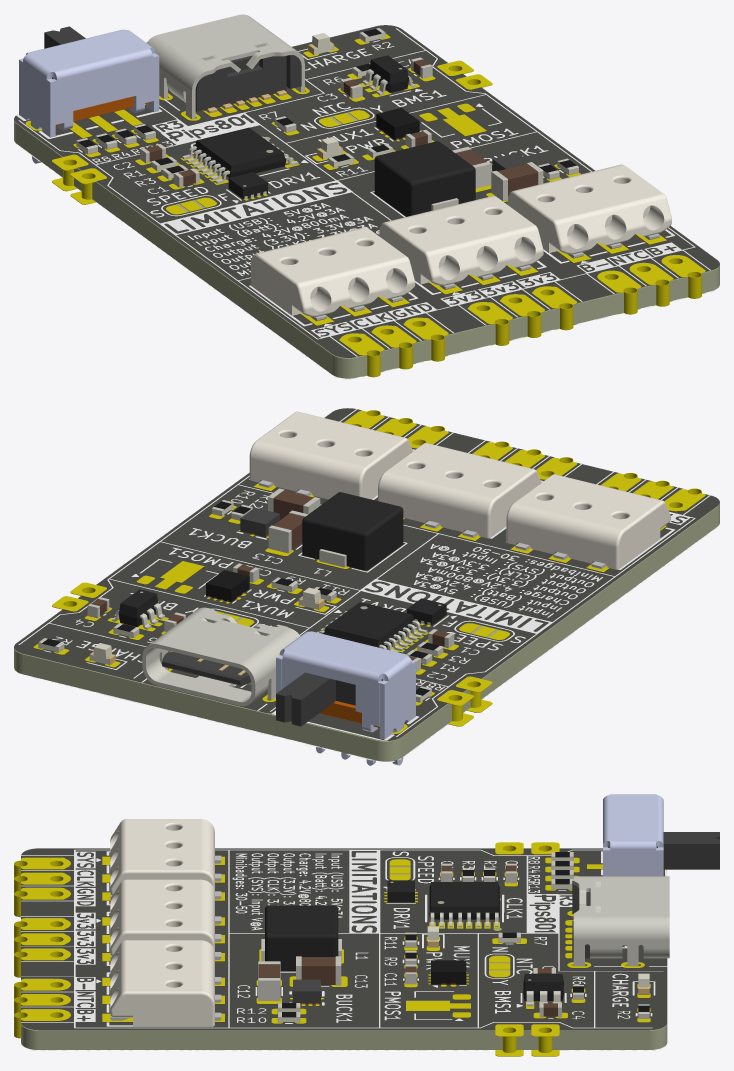
File: minibadge-display-devboard.glb
3 renders of one model, top to bottom at view 1: azimuth 30°, elevation 25°; view 2: azimuth 150°, elevation 25°; view 3: azimuth 270°, elevation 25°, orthographic. The views are drawn at different scales.
Visible parts, largest first — view 1: =>[0:1:1:18], =>[0:1:1:19], =>[0:1:1:16], =>[0:1:1:17], SW1, USB1, JT3, JT2, JT1, L1, CLK1, BMS1 (+4 smaller); view 2: =>[0:1:1:19], =>[0:1:1:18], =>[0:1:1:17], SW1, JT3, =>[0:1:1:16], JT2, USB1, JT1, L1, CLK1, BMS1 (+5 smaller); view 3: =>[0:1:1:18], =>[0:1:1:19], =>[0:1:1:17], =>[0:1:1:16], JT1, USB1, SW1, JT2, JT3, L1, CLK1, C13 (+5 smaller).
Boxes of the visible parts, box(x1,y1,x2,y2) form: =>[0:1:1:18]: box(14, 25, 719, 357); =>[0:1:1:19]: box(14, 26, 719, 378); =>[0:1:1:16]: box(25, 34, 705, 377); =>[0:1:1:17]: box(15, 28, 715, 379); SW1: box(19, 26, 159, 163); USB1: box(146, 14, 304, 119); JT3: box(251, 227, 415, 321); JT2: box(379, 196, 543, 289); JT1: box(507, 164, 671, 258); L1: box(374, 141, 475, 216); CLK1: box(182, 127, 298, 183); BMS1: box(362, 55, 415, 95); =>[0:1:1:19]: box(14, 409, 719, 761); =>[0:1:1:18]: box(14, 408, 719, 740); =>[0:1:1:17]: box(14, 409, 719, 762); SW1: box(276, 631, 415, 765); JT3: box(506, 474, 670, 569); =>[0:1:1:16]: box(33, 410, 705, 733); JT2: box(378, 443, 541, 538); USB1: box(142, 607, 300, 706); JT1: box(249, 411, 412, 499); L1: box(302, 492, 403, 570); CLK1: box(317, 602, 427, 652); BMS1: box(112, 589, 164, 629); =>[0:1:1:18]: box(21, 848, 667, 1030); =>[0:1:1:19]: box(21, 849, 667, 1049); =>[0:1:1:17]: box(21, 849, 667, 1050); =>[0:1:1:16]: box(14, 842, 650, 1056); JT1: box(110, 940, 221, 1026); USB1: box(572, 876, 669, 966); SW1: box(603, 794, 719, 876); JT2: box(110, 879, 221, 959); JT3: box(110, 819, 221, 899); L1: box(261, 905, 341, 971); CLK1: box(429, 882, 499, 927); C13: box(296, 956, 341, 985).
Size of the model in its own units: 0.0325 by 0.008 by 0.05.
